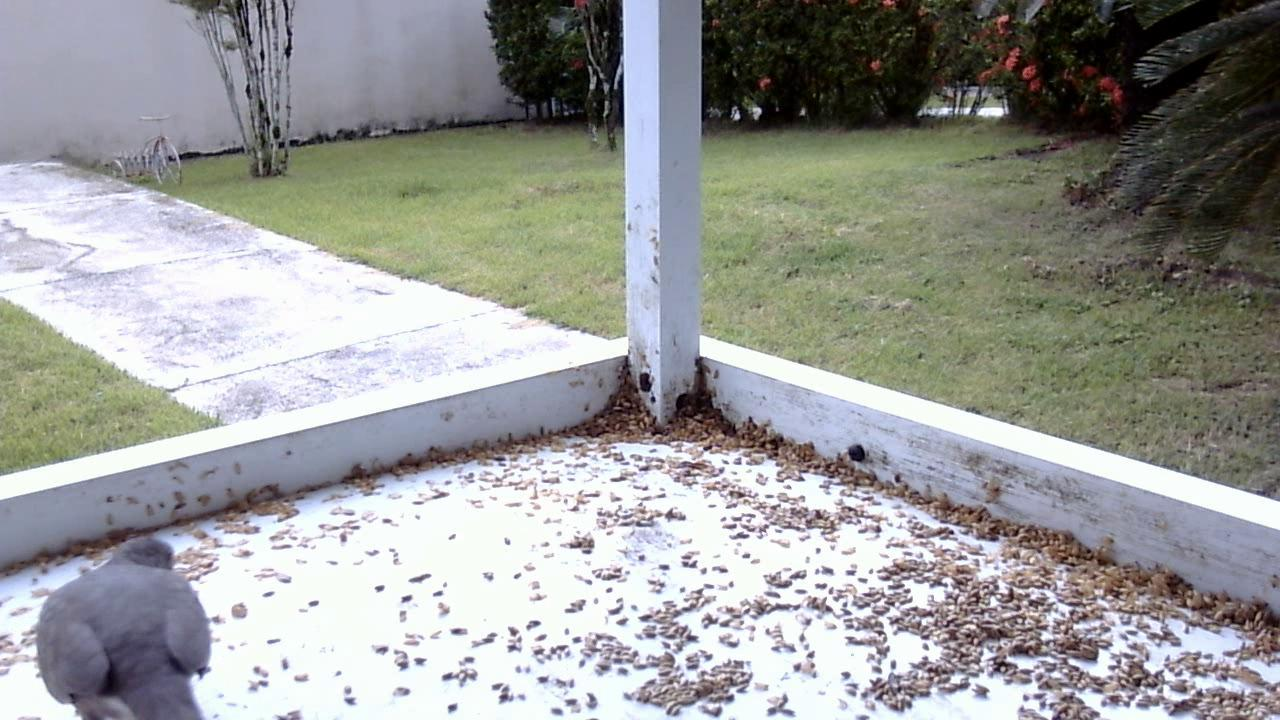rolinha: (31, 526, 226, 720)
